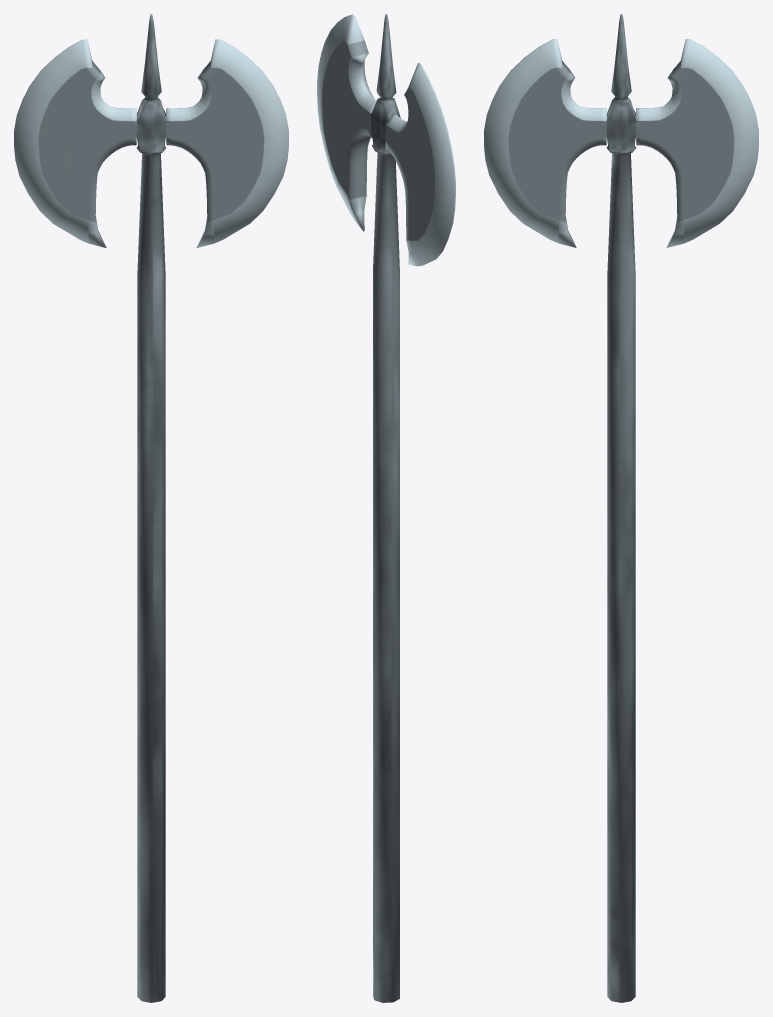
Rendered from axeV5.fbx.
3 renders of one model, left to right at view 1: azimuth 90°, elevation 25°; view 2: azimuth 210°, elevation 25°; view 3: azimuth 270°, elevation 25°, orthographic.
Visible parts, largest first — view 1: axeV5; view 2: axeV5; view 3: axeV5.
Part boxes in pixels (x1=…): axeV5: x1=14, y1=14, x2=288, y2=1002; axeV5: x1=317, y1=14, x2=455, y2=1002; axeV5: x1=484, y1=14, x2=758, y2=1002.
Bounding box in the file's own units: 4.29 × 166 × 41.94.
